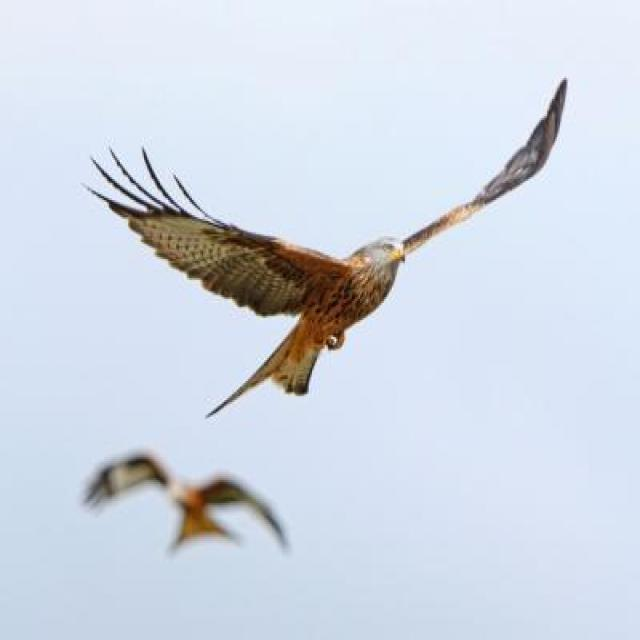birds: (74, 65, 572, 418), (72, 434, 300, 573)
